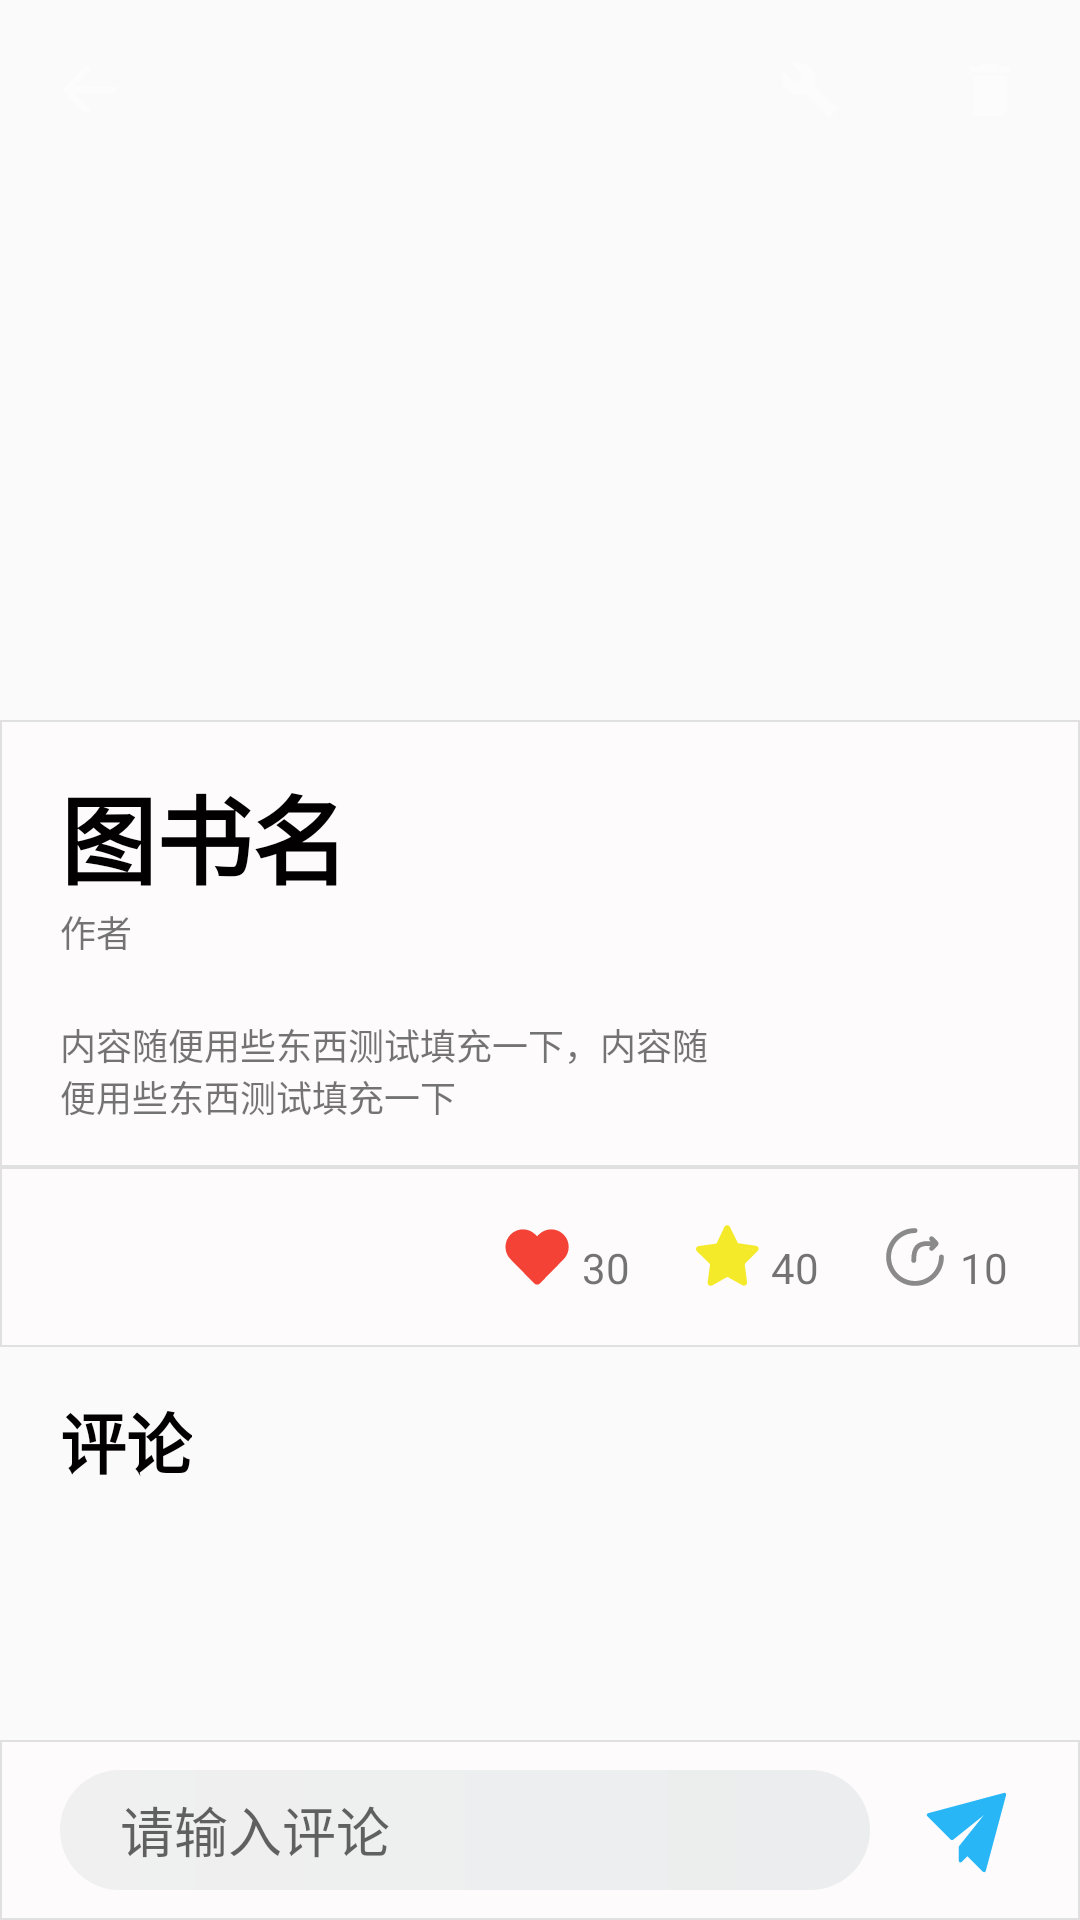

Locate icon controls on the screen. Image size 1080px×1920px, boxes as (x1, y1, x2, y2).
comment send: (926, 1792, 1006, 1873)
love: (505, 1229, 569, 1285)
share: (886, 1228, 944, 1286)
star: (696, 1225, 759, 1286)
